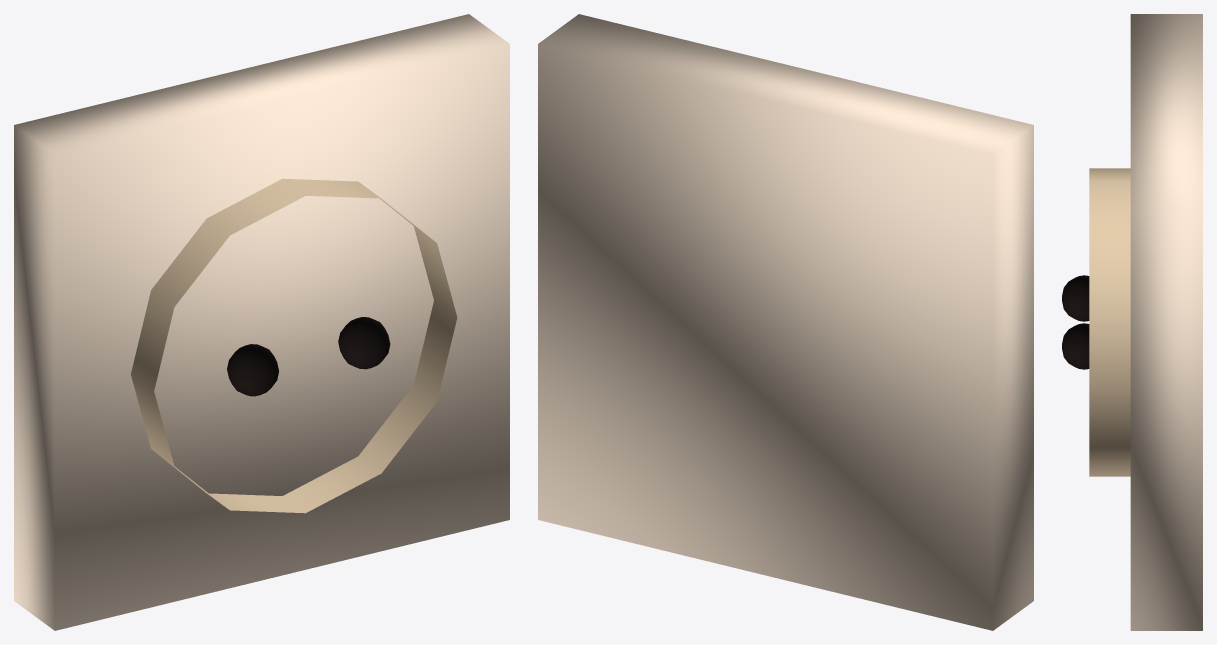
Rendered from steckdose.glb.
The picture shows the model from 3 angles, left to right: view 1: azimuth 30°, elevation 25°; view 2: azimuth 150°, elevation 25°; view 3: azimuth 270°, elevation 25°; orthographic projection. The views are drawn at different scales.
Visible parts, largest first — view 1: Steckdose; view 2: Steckdose; view 3: Steckdose.
Part boxes in pixels (x1=…): Steckdose: x1=14, y1=14, x2=509, y2=630; Steckdose: x1=538, y1=14, x2=1033, y2=630; Steckdose: x1=1062, y1=14, x2=1202, y2=630.
Bounding box in the file's own units: 0.09 × 0.09 × 0.0273.
Materials: 1 (1 with a texture image).
